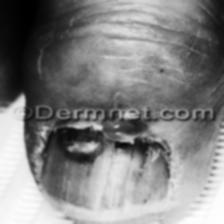Toxin: (95, 116, 159, 163)
